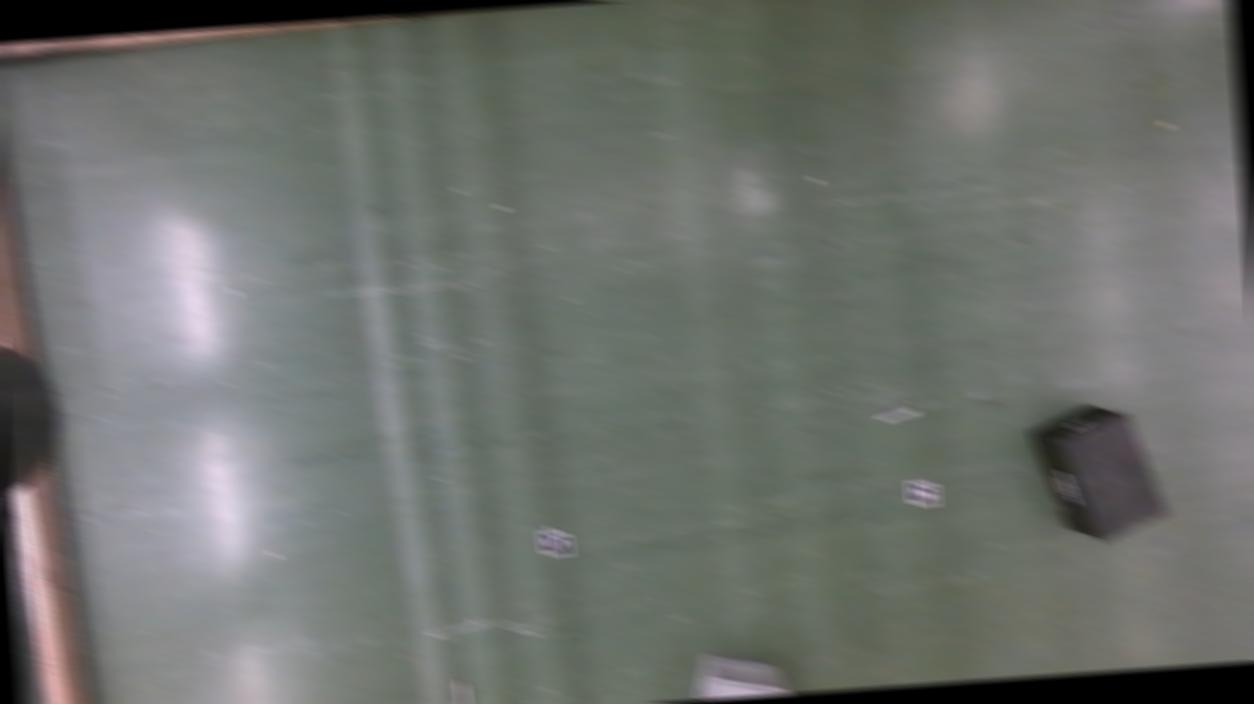probes: (878, 402, 918, 420), (454, 680, 472, 704)
rako: (1026, 396, 1170, 545)
